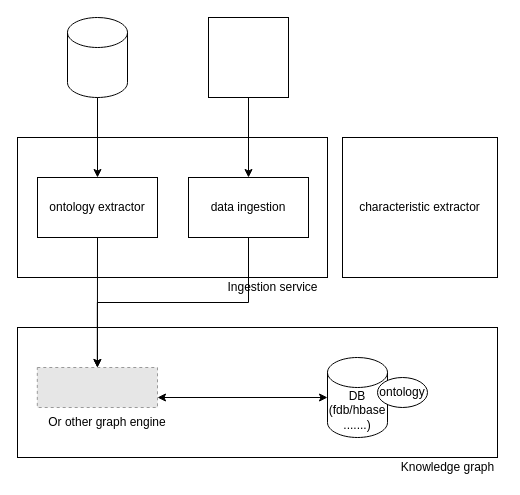
Some shapes in this 520 by 495 pixel diagram are drawn without their labels. Grey dashed boxes stand in for pictures. Each missing label, with the box of its shape:
Data source: (208, 16, 288, 98)
db (traditional db): (66, 16, 128, 98)
